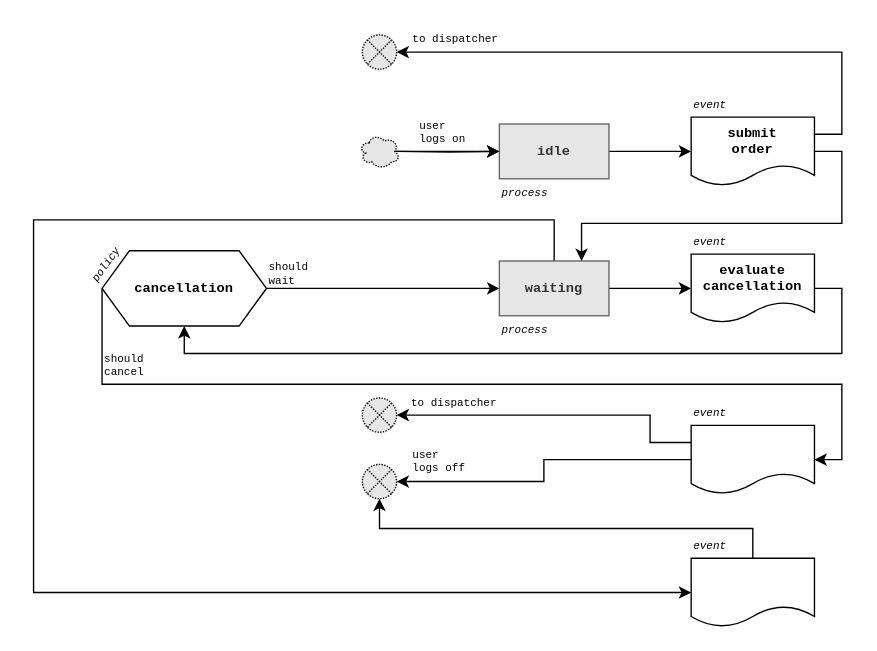
Some shapes in this 877 by 651 pixel diagram are drawn without their labels. The centre of each missing label's shape, as x and y in pixels:
"cancel order" belongs at point 752,459.
"order dropped off" belongs at point 752,592.
